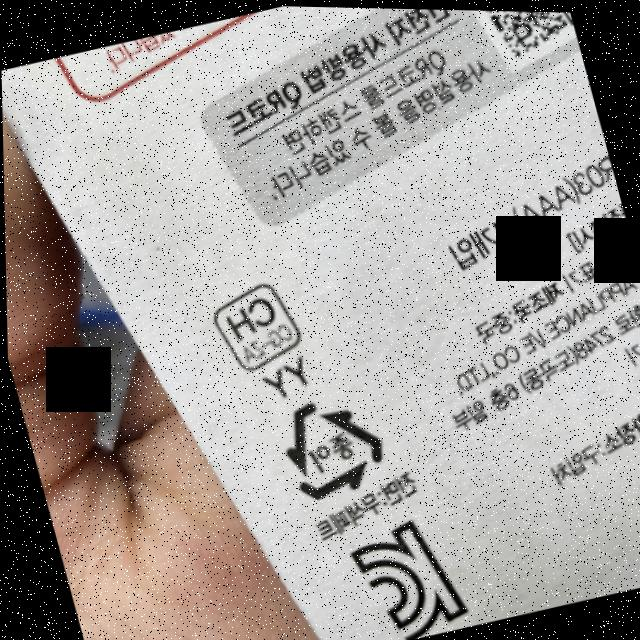Paper: (268, 379, 396, 507)
